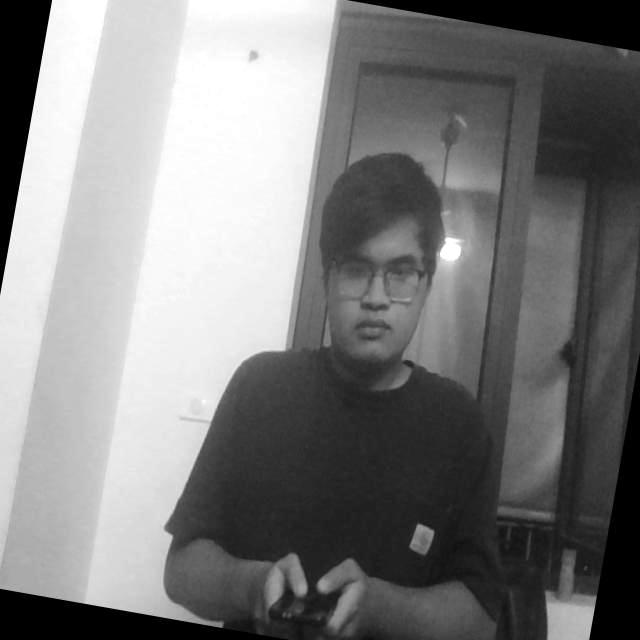phone: (262, 556, 348, 640)
